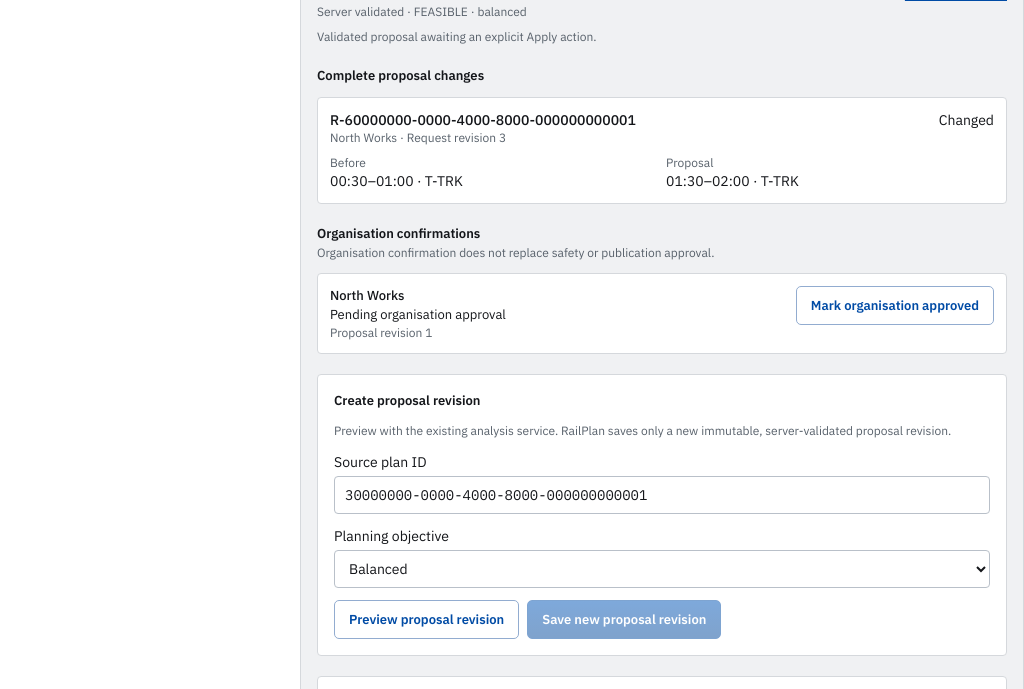
Scenario: planner coordination › retains the confirmation note when the API rejects the mutation
This screenshot has width=1024, height=689.
(page scrolled)
Click the button "Mark organisation approved".
click(895, 306)  # box [796,286,994,325]
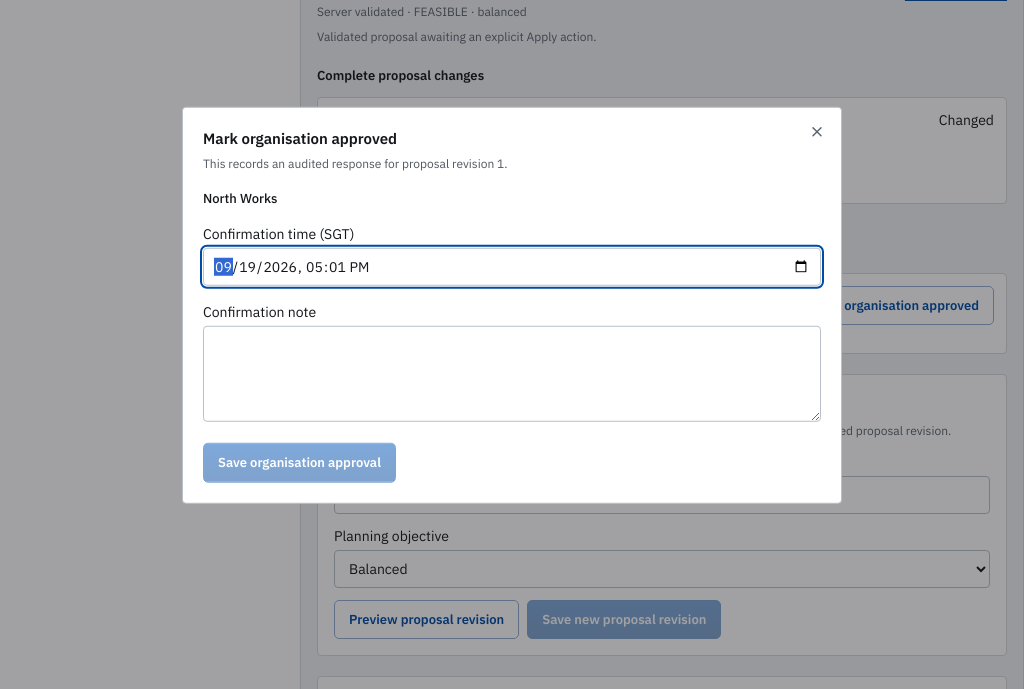
Type "Confirmed during the 09:00 coordination meeting" into the text box labelled "Confirmation note".
click(512, 374); type("Confirmed during the 09:00 coordination meeting")  # box [203,326,821,422]
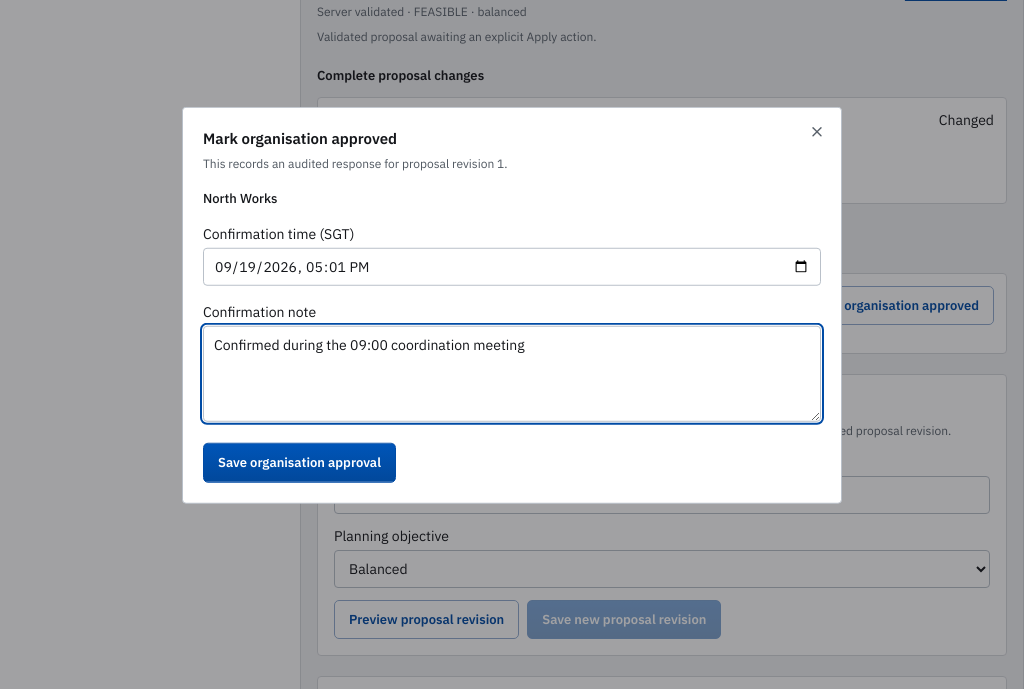
Click the button "Save organisation approval".
click(300, 463)  # box [203,443,396,482]
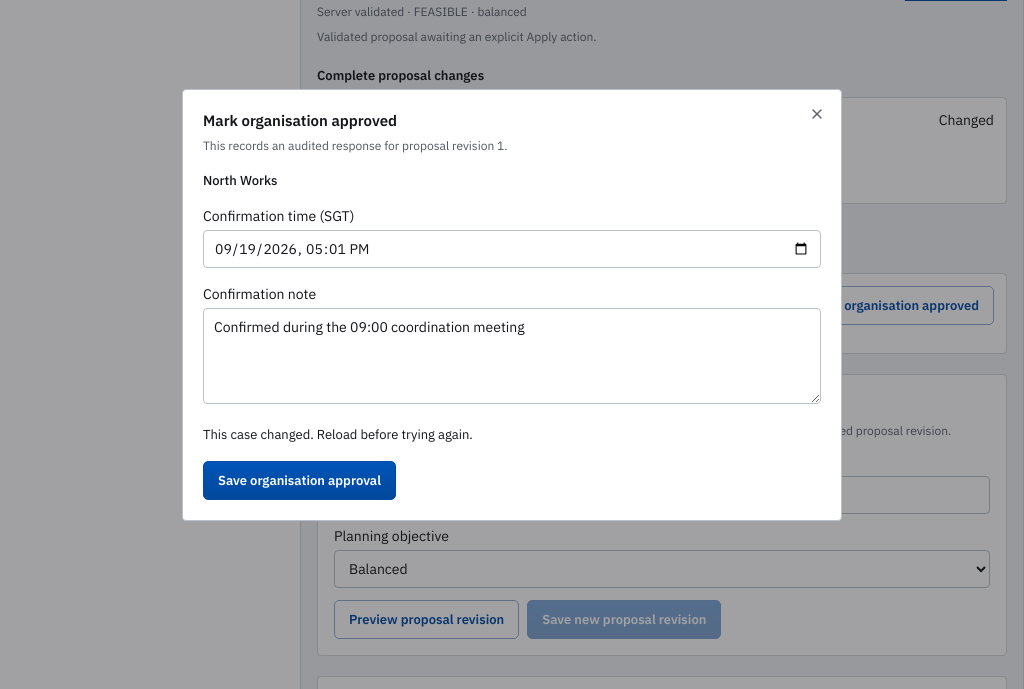
expect the message shows "This case changed": met, box [203,426,473,443]
